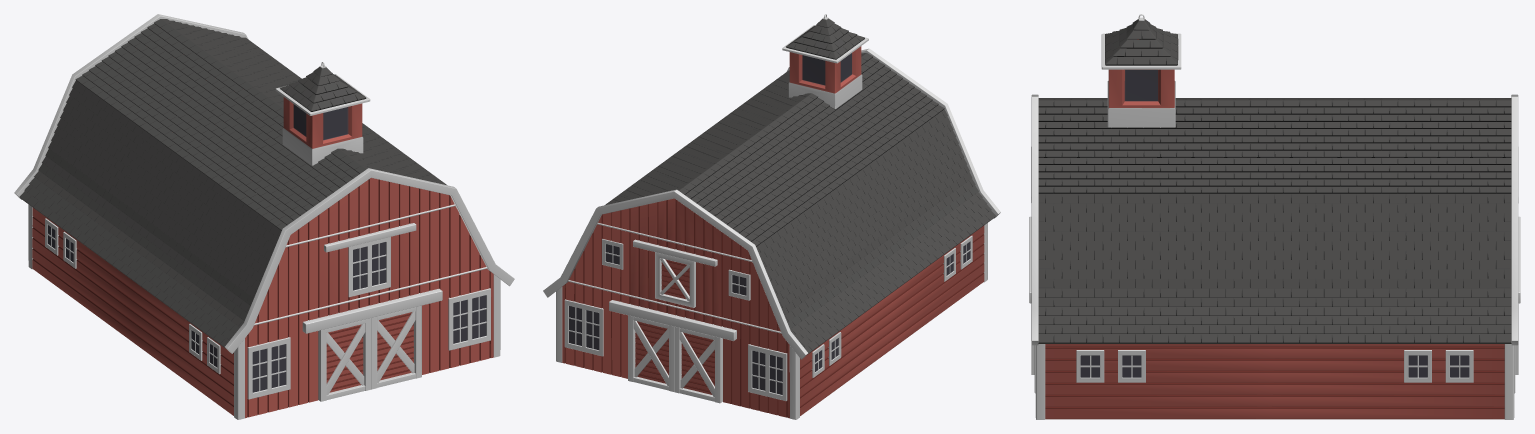
The model's file is 红房子.glb.
The picture shows the model from 3 angles, left to right: view 1: azimuth 30°, elevation 25°; view 2: azimuth 150°, elevation 25°; view 3: azimuth 270°, elevation 25°; orthographic projection. The views are drawn at different scales.
Visible parts, largest first — view 1: barn.1; view 2: barn.1; view 3: barn.1.
Part boxes in pixels (x1=…): barn.1: x1=14, y1=14, x2=514, y2=419; barn.1: x1=543, y1=14, x2=1000, y2=419; barn.1: x1=1029, y1=14, x2=1520, y2=419.
Size of the model in its own units: 3.08 by 2.99 by 4.01.
Materials: 1 (1 with a texture image).
